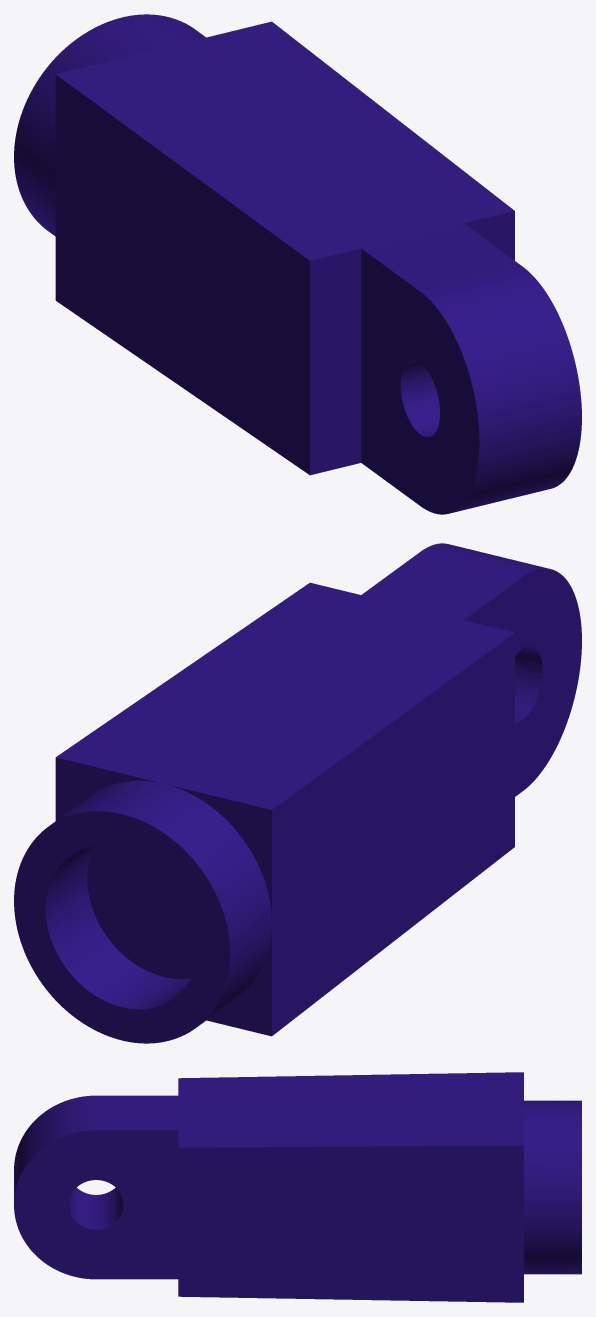
3 renders of one model, top to bottom at view 1: azimuth 30°, elevation 25°; view 2: azimuth 150°, elevation 25°; view 3: azimuth 270°, elevation 25°, orthographic. The views are drawn at different scales.
Visible parts, largest first — view 1: node; view 2: node; view 3: node.
Boxes of the visible parts, left/top/right/bottom form: node: left=14, top=14, right=581, bottom=514; node: left=14, top=543, right=581, bottom=1043; node: left=14, top=1072, right=581, bottom=1302.
Size of the model in its own units: 0.0502 by 0.0502 by 0.1643.
